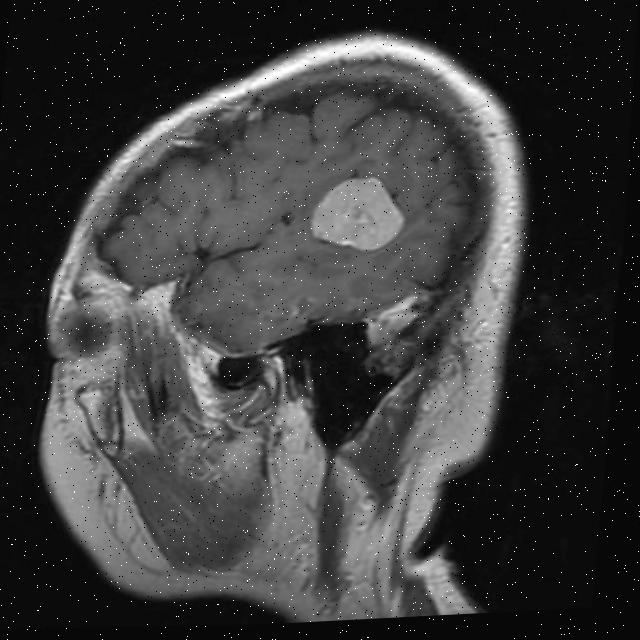Meningioma: (305, 170, 410, 256)
